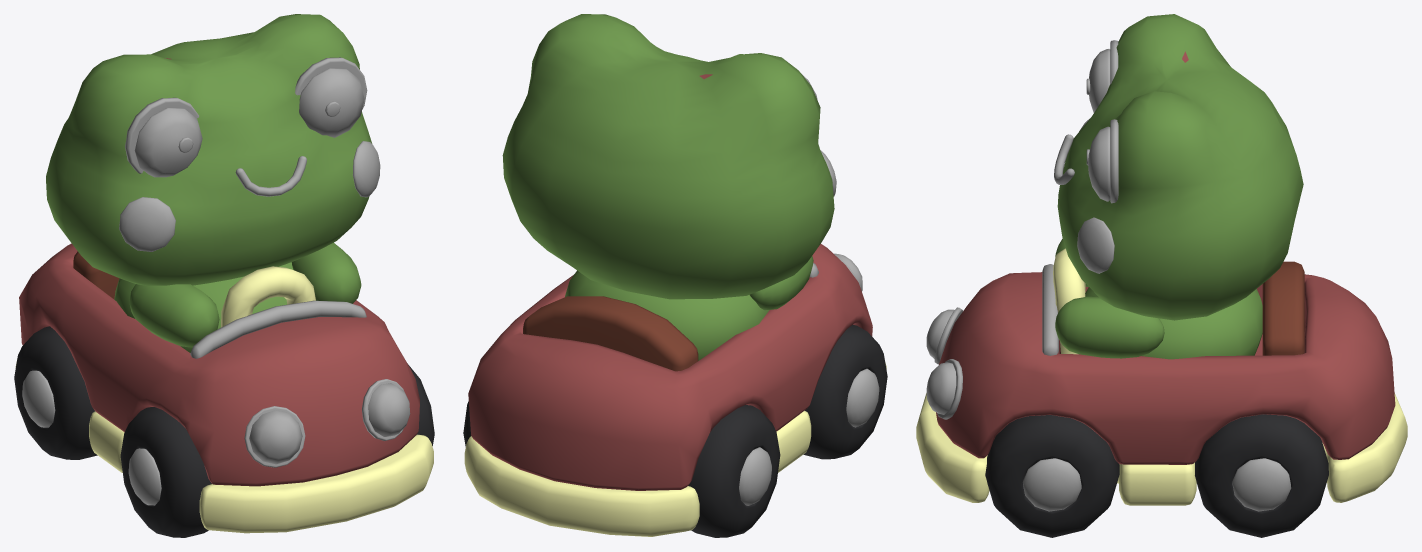
The model's file is Frogdriver.fbx.
3 views of the same model, side by side, from view 1: azimuth 30°, elevation 25°; view 2: azimuth 150°, elevation 25°; view 3: azimuth 270°, elevation 25° (orthographic). The views are drawn at different scales.
Parts seen in each view (by area): view 1: S_Frogdriver, M_Frogdriver23, M_Frogdriver24, M_Frogdriver20, D_Frogdriver_14, D_Frogdriver_16, D_Frogdriver_5, M_Frogdriver19, D_Frogdriver_6, D_Frogdriver_9, D_Frogdriver_11, M_Frogdriver18 (+9 smaller); view 2: S_Frogdriver, M_Frogdriver24, M_Frogdriver23, M_Frogdriver18, D_Frogdriver_4, D_Frogdriver_3, M_Frogdriver20; view 3: S_Frogdriver, M_Frogdriver21, M_Frogdriver22, M_Frogdriver19, M_Frogdriver18, D_Frogdriver_2, D_Frogdriver_1, D_Frogdriver_8, D_Frogdriver_16, D_Frogdriver_5, D_Frogdriver_11, D_Frogdriver_14 (+3 smaller).
Part boxes in pixels (x1=…): S_Frogdriver: x1=15, y1=14, x2=433, y2=533; M_Frogdriver23: x1=120, y1=407, x2=212, y2=537; M_Frogdriver24: x1=14, y1=326, x2=97, y2=459; M_Frogdriver20: x1=129, y1=284, x2=219, y2=347; D_Frogdriver_14: x1=134, y1=108, x2=202, y2=177; D_Frogdriver_16: x1=299, y1=68, x2=364, y2=137; D_Frogdriver_5: x1=190, y1=300, x2=366, y2=358; M_Frogdriver19: x1=291, y1=242, x2=361, y2=303; D_Frogdriver_6: x1=119, y1=197, x2=175, y2=251; D_Frogdriver_9: x1=249, y1=410, x2=302, y2=464; D_Frogdriver_11: x1=368, y1=383, x2=410, y2=436; M_Frogdriver18: x1=114, y1=262, x2=293, y2=352; S_Frogdriver: x1=464, y1=14, x2=886, y2=536; M_Frogdriver24: x1=688, y1=405, x2=780, y2=537; M_Frogdriver23: x1=803, y1=325, x2=887, y2=459; M_Frogdriver18: x1=565, y1=270, x2=769, y2=360; D_Frogdriver_4: x1=846, y1=368, x2=879, y2=427; D_Frogdriver_3: x1=739, y1=447, x2=771, y2=505; M_Frogdriver20: x1=750, y1=256, x2=813, y2=310; S_Frogdriver: x1=916, y1=14, x2=1407, y2=505; M_Frogdriver21: x1=1195, y1=414, x2=1328, y2=537; M_Frogdriver22: x1=985, y1=415, x2=1119, y2=537; M_Frogdriver19: x1=1055, y1=296, x2=1164, y2=358; M_Frogdriver18: x1=1085, y1=287, x2=1262, y2=359; D_Frogdriver_2: x1=1232, y1=458, x2=1291, y2=511; D_Frogdriver_1: x1=1023, y1=458, x2=1081, y2=511; D_Frogdriver_8: x1=1077, y1=217, x2=1114, y2=273; D_Frogdriver_16: x1=1088, y1=126, x2=1110, y2=201; D_Frogdriver_5: x1=1042, y1=264, x2=1058, y2=355; D_Frogdriver_11: x1=926, y1=362, x2=956, y2=414; D_Frogdriver_14: x1=1089, y1=49, x2=1110, y2=112.
Bounding box in the file's own units: 311 × 422 × 447.
